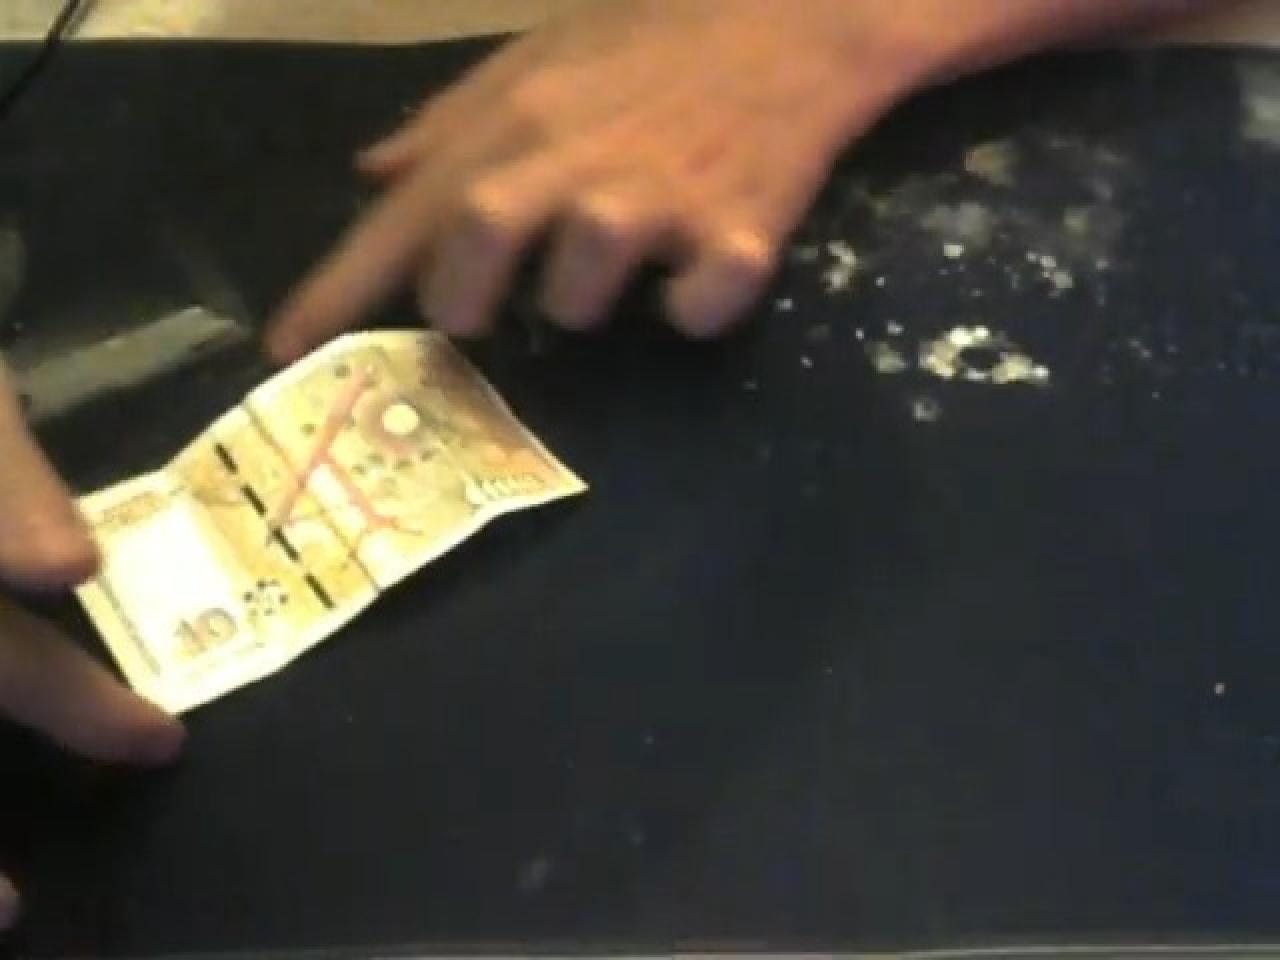10leva: (56, 328, 586, 723)
